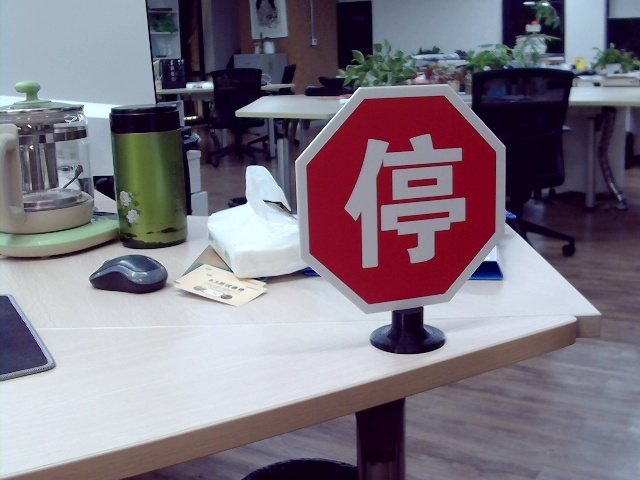stop: (346, 130, 467, 266)
